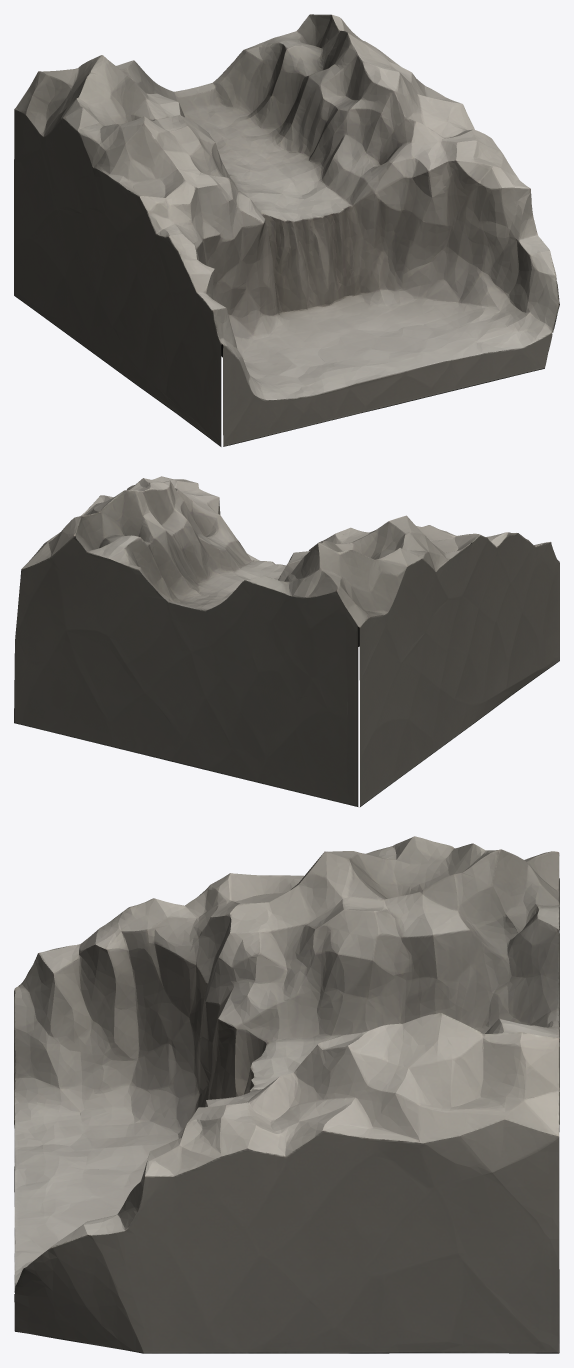
The picture shows the model from 3 angles, top to bottom: view 1: azimuth 30°, elevation 25°; view 2: azimuth 150°, elevation 25°; view 3: azimuth 270°, elevation 25°; orthographic projection. The views are drawn at different scales.
Visible parts, largest first — view 1: world; view 2: world; view 3: world.
Boxes of the visible parts, <box> form: world: <box>14,14,559,446</box>; world: <box>14,476,559,806</box>; world: <box>14,836,559,1353</box>.
Bounding box in the file's own units: 29.95 × 19.22 × 30.
Materials: 1 (1 with a texture image).
